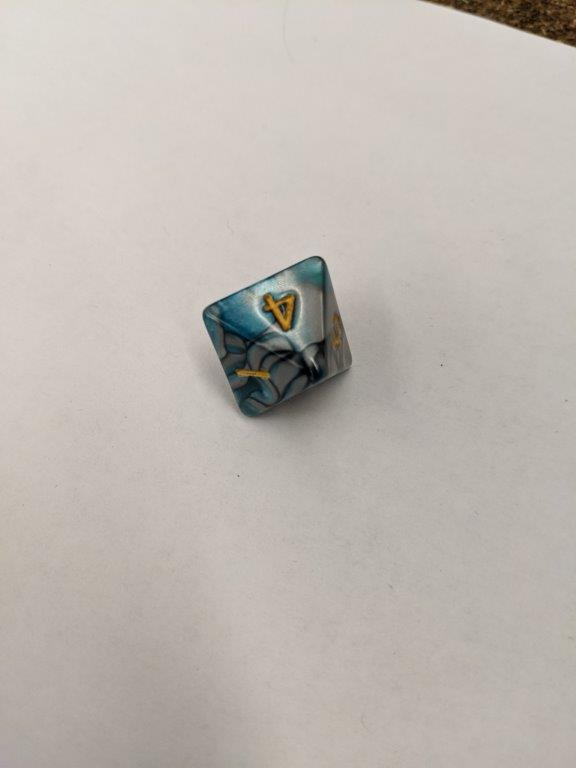d8-4: (202, 255, 354, 419)
